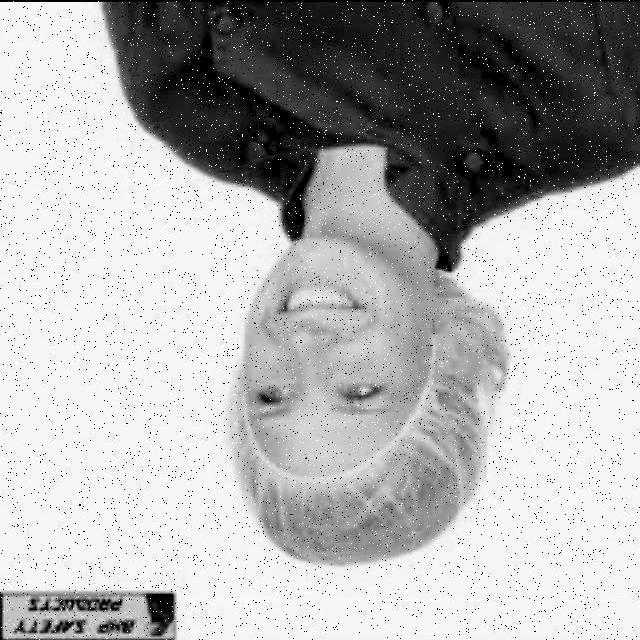no_hairnet: (240, 231, 416, 372)
